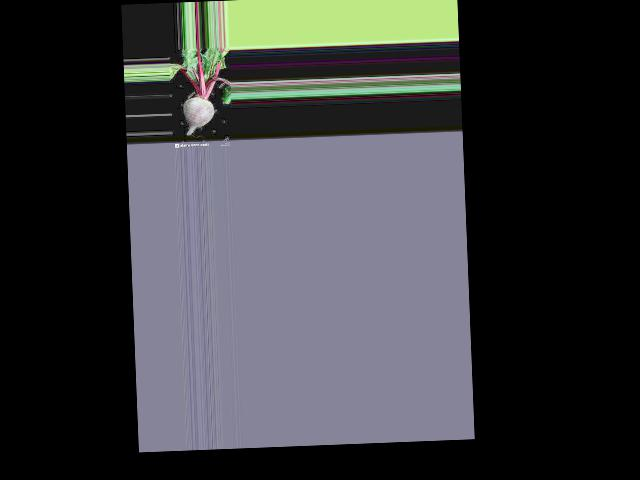beet: (168, 47, 233, 136)
